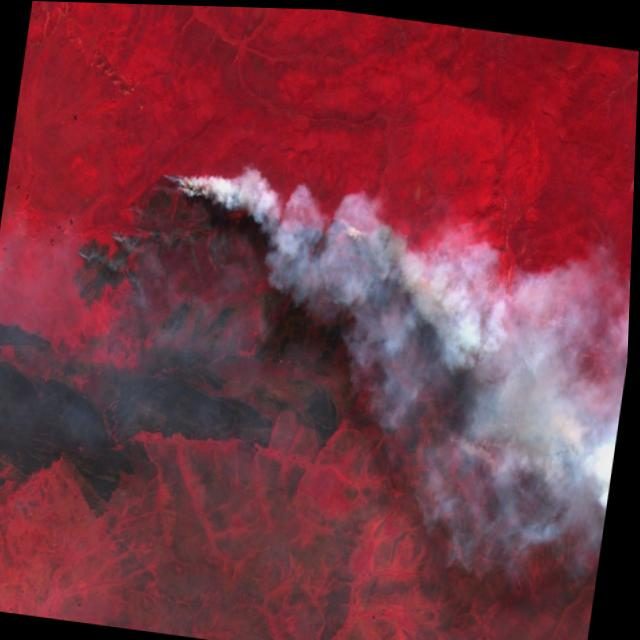fire: (40, 131, 609, 486)
